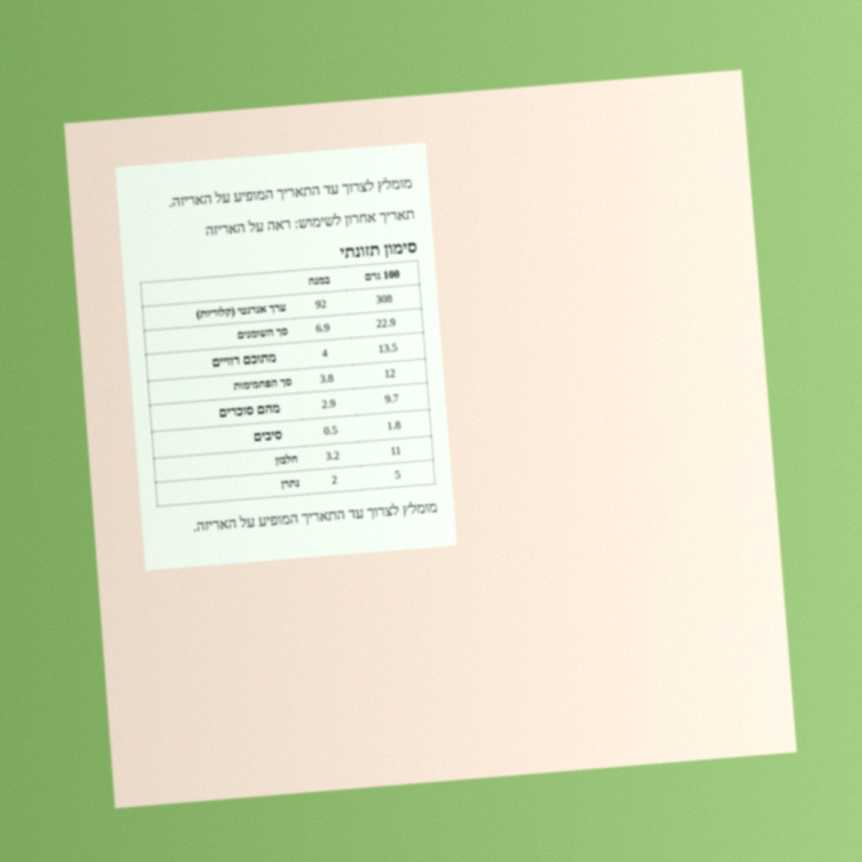carbs: (382, 366, 397, 381)
energy: (374, 291, 394, 307)
fat: (374, 315, 397, 331)
protein: (388, 443, 403, 458)
